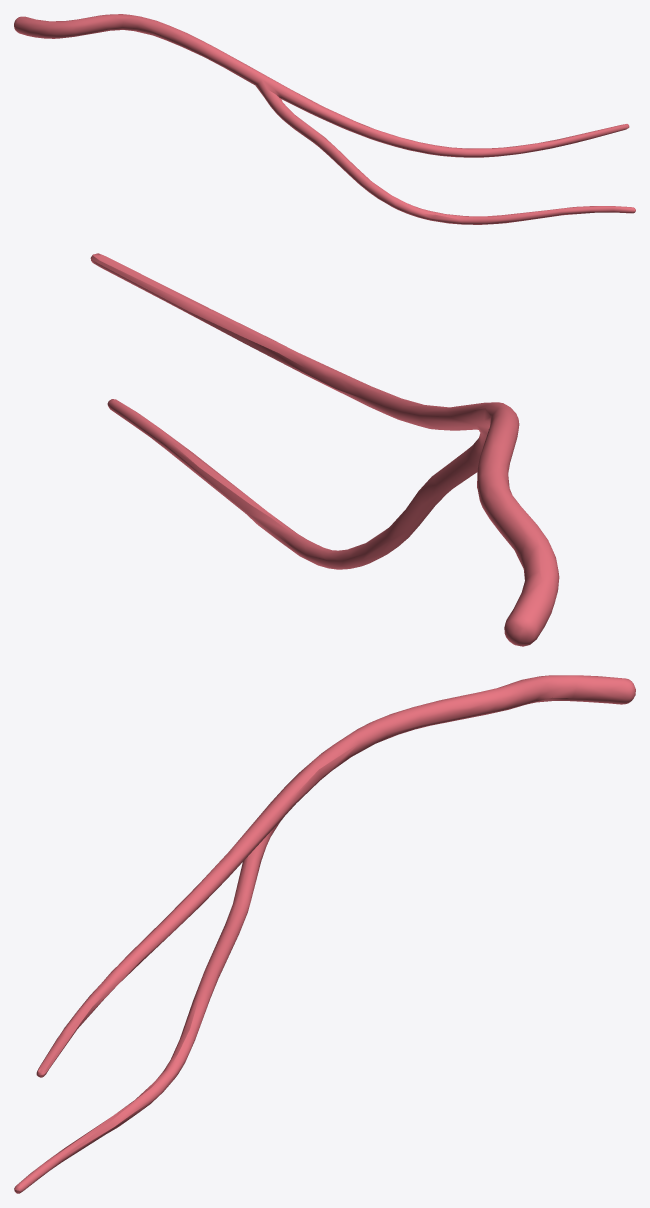
File: fma52542_fj5096.glb
3 views of the same model, one above another, from view 1: azimuth 30°, elevation 25°; view 2: azimuth 150°, elevation 25°; view 3: azimuth 270°, elevation 25° (orthographic). The views are drawn at different scales.
Parts seen in each view (by area): view 1: FMA52542_FJ5096; view 2: FMA52542_FJ5096; view 3: FMA52542_FJ5096.
Boxes of the visible parts, box(x1,y1,x2,y2) form: FMA52542_FJ5096: box(14, 14, 635, 224); FMA52542_FJ5096: box(90, 253, 559, 646); FMA52542_FJ5096: box(14, 675, 635, 1193).
Size of the model in its own units: 0.037 by 0.0149 by 0.032.
